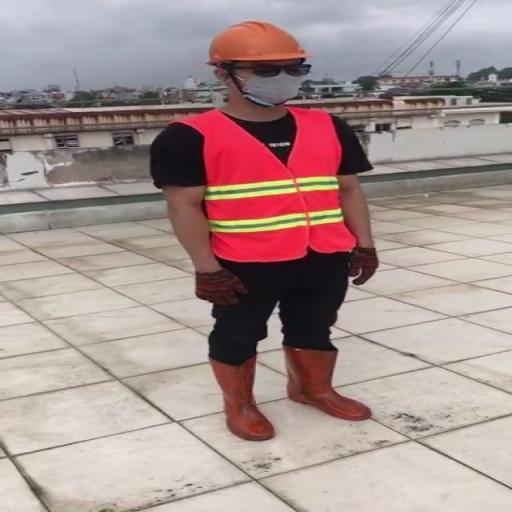Boots: (283, 344, 373, 421), (205, 356, 274, 441)
Helmet: (193, 18, 311, 68)
Person: (139, 17, 391, 443)
